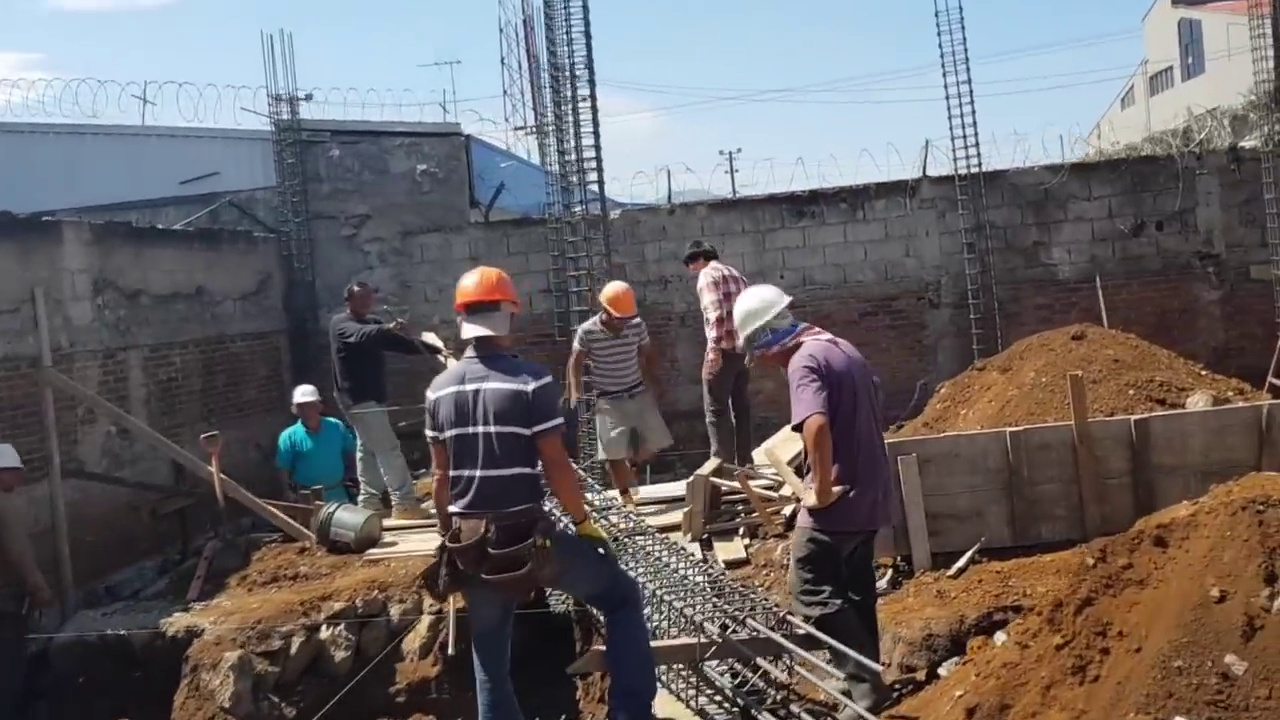helmet: (731, 282, 794, 351), (449, 268, 520, 319), (598, 280, 638, 318), (286, 385, 320, 412)
helmet-off: (338, 284, 370, 322), (683, 243, 716, 271)
helmet-on: (449, 265, 526, 357), (731, 282, 804, 371), (593, 280, 638, 335), (285, 385, 323, 435)
person: (427, 269, 659, 714), (730, 280, 890, 719), (574, 280, 664, 522), (334, 278, 418, 520), (678, 243, 754, 462), (266, 383, 356, 503)
